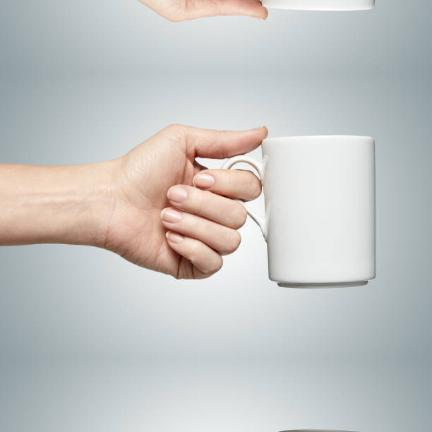Nail: (167, 184, 187, 203), (193, 172, 214, 188), (161, 207, 182, 223), (166, 231, 183, 243)
